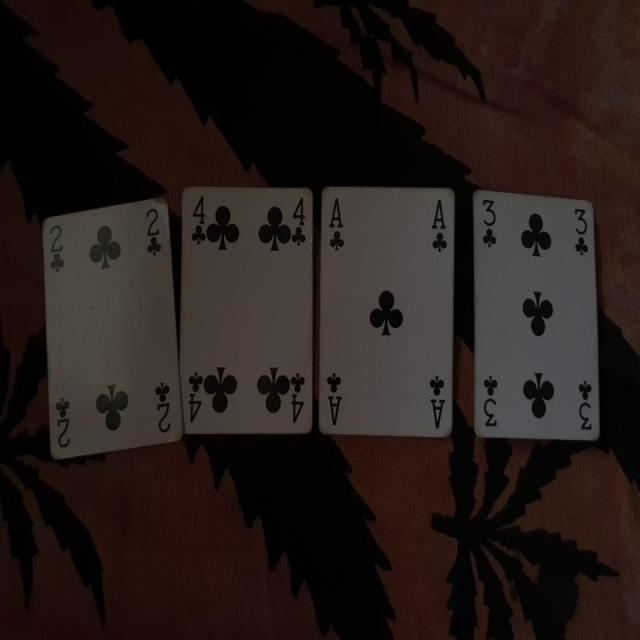2 of clubs: (40, 194, 184, 462)
3 of clubs: (472, 188, 602, 441)
4 of clubs: (180, 182, 316, 436)
ace of clubs: (317, 184, 457, 438)
